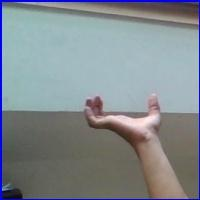space: (76, 86, 172, 155)
